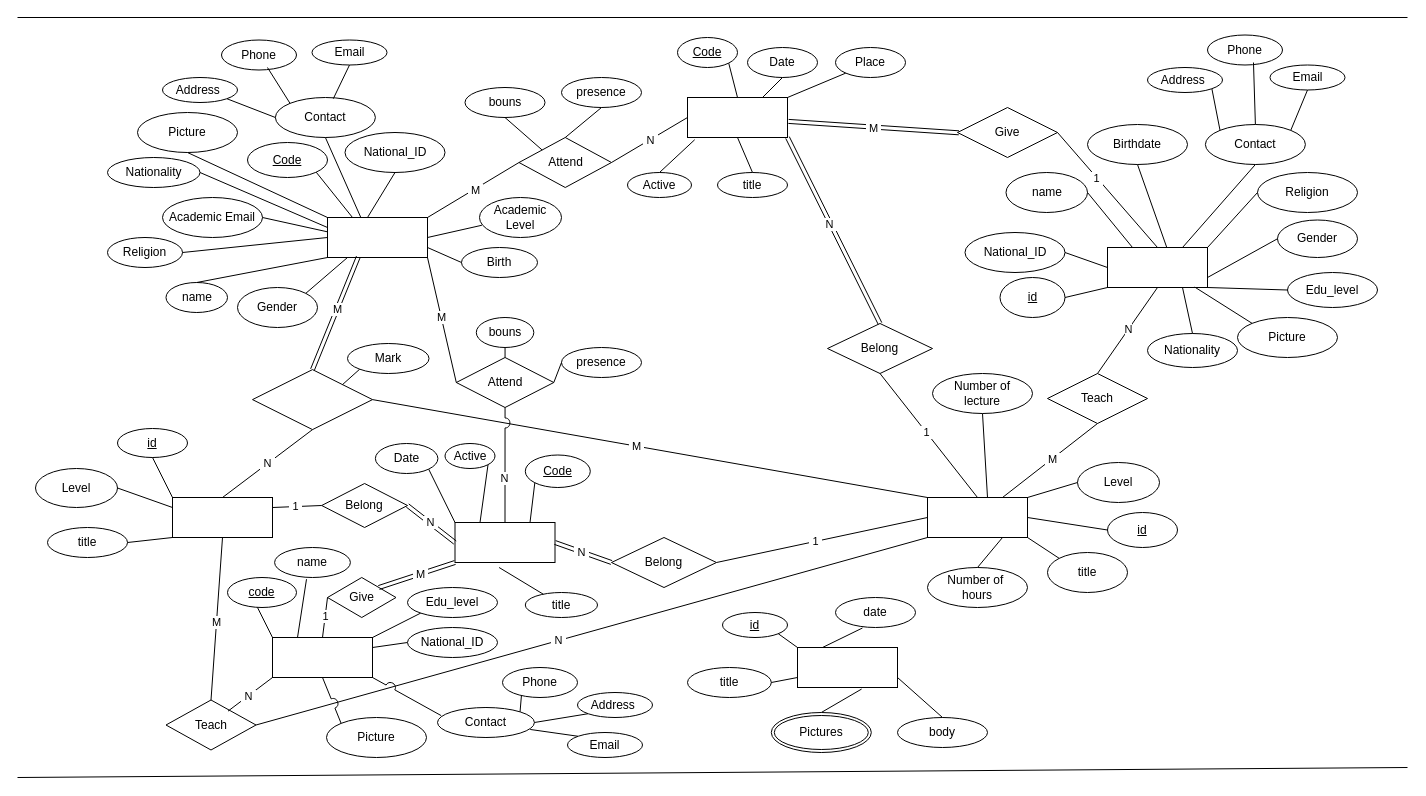
This 1426x796 diagram has some shape labels left out. Here are the shapes that lost their labels. From the top down, the box of each, then its label:
(686, 96, 788, 138): Lectures
(326, 216, 428, 258): students
(1106, 246, 1208, 288): Professors
(252, 369, 372, 430): Assign
(172, 496, 272, 538): groups
(926, 496, 1028, 538): subjects
(454, 522, 555, 562): Sessions
(272, 636, 372, 678): Instructors
(796, 646, 898, 688): news
